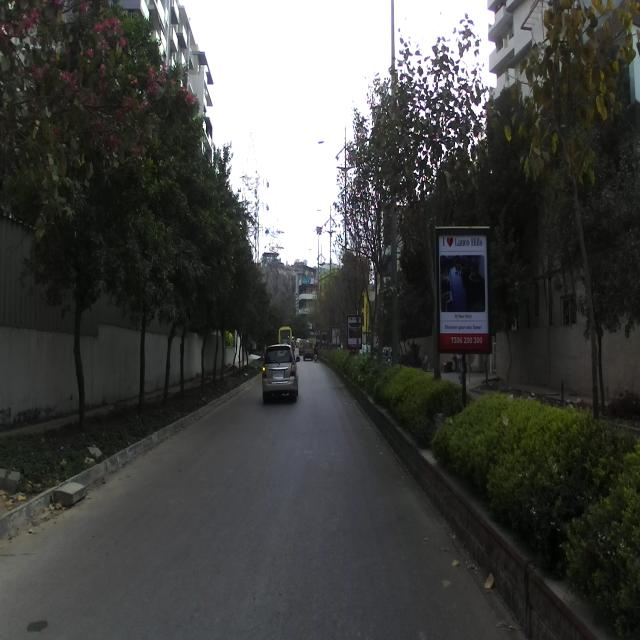car ahead at: (255, 340, 301, 400)
tree ahead at: (67, 269, 93, 432), (129, 293, 153, 409), (160, 313, 175, 407)
